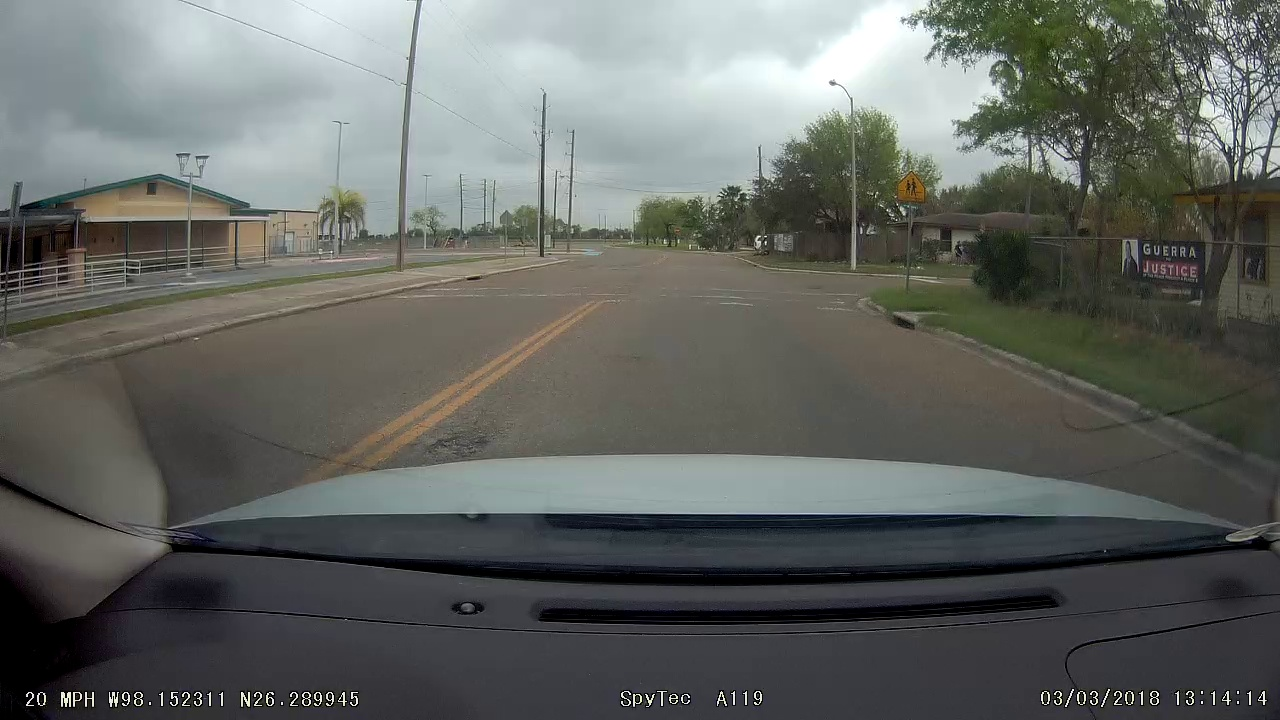pothole: (425, 416, 498, 463)
